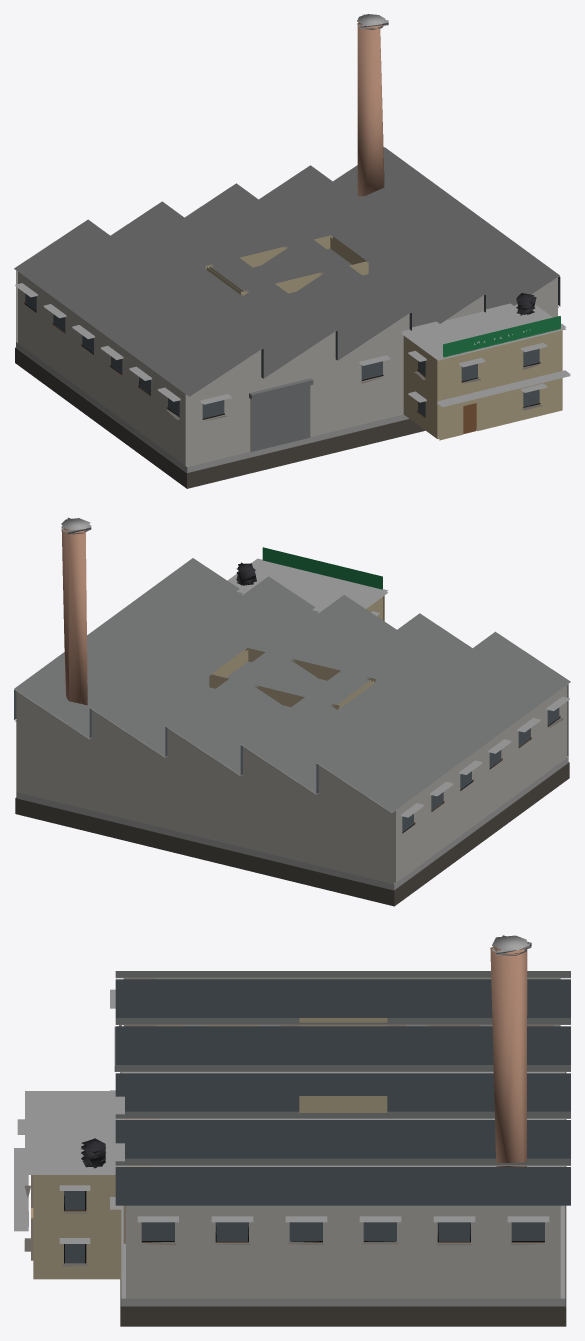
The model's file is mill_shed_30x24_1_far.glb.
3 renders of one model, top to bottom at view 1: azimuth 30°, elevation 25°; view 2: azimuth 150°, elevation 25°; view 3: azimuth 270°, elevation 25°, orthographic. The views are drawn at different scales.
Parts seen in each view (by area): view 1: mill_shed_30x24_1; view 2: mill_shed_30x24_1; view 3: mill_shed_30x24_1.
Boxes of the visible parts, <box> form: mill_shed_30x24_1: <box>14,14,570,488</box>; mill_shed_30x24_1: <box>14,517,570,906</box>; mill_shed_30x24_1: <box>14,935,570,1326</box>.
Bounding box in the file's own units: 31.22 × 21.45 × 30.1.
